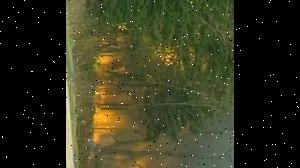fire: (79, 34, 204, 168)
